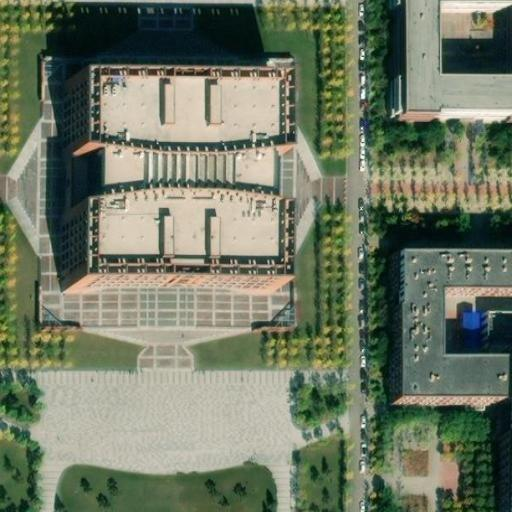building: (63, 74, 267, 286), (401, 249, 512, 394), (398, 0, 512, 127), (488, 312, 512, 352)
